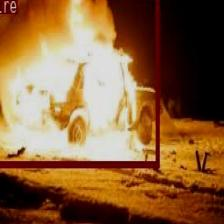fire: (0, 0, 158, 166)
